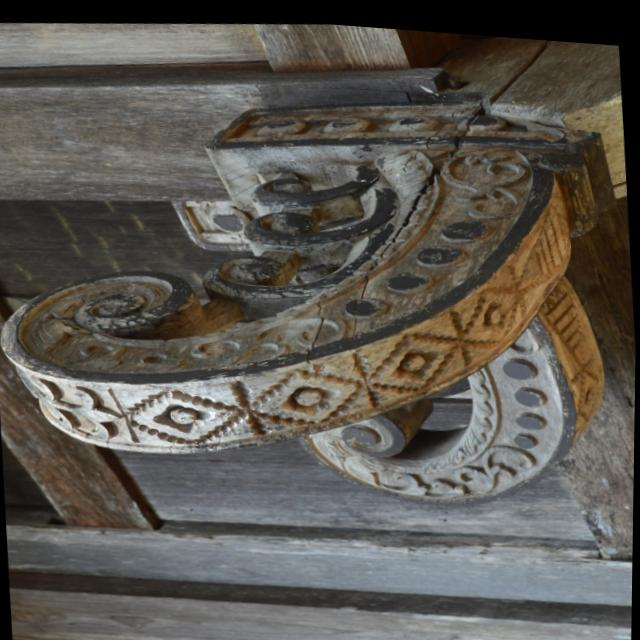Ornamen: (0, 94, 626, 505)
